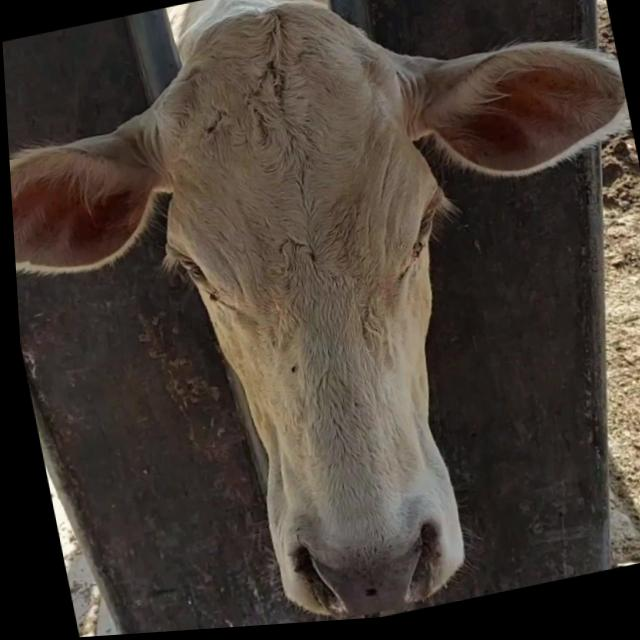cowFace: (123, 0, 508, 634)
